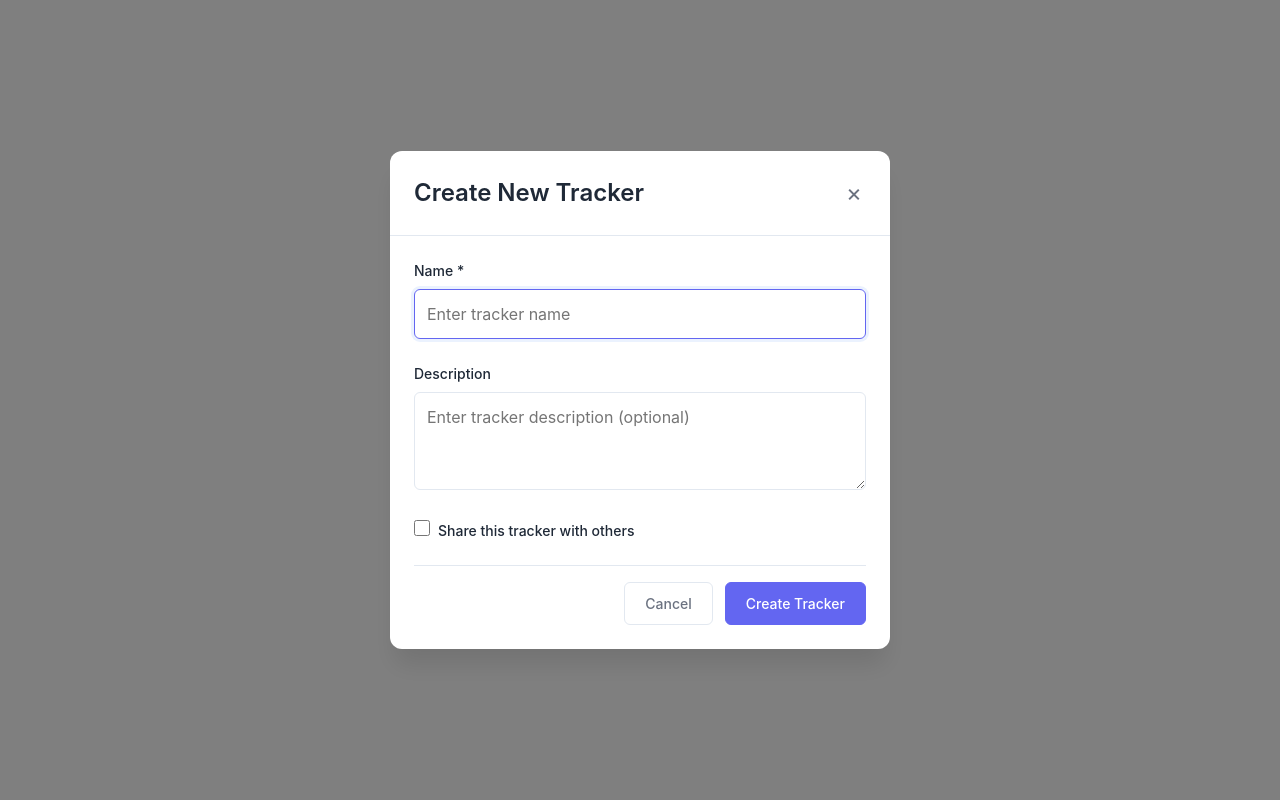
Scenario: CreateTrackerModal Component › validates required fields
Click the button "Create Tracker": (795, 604) [725, 582, 866, 625]
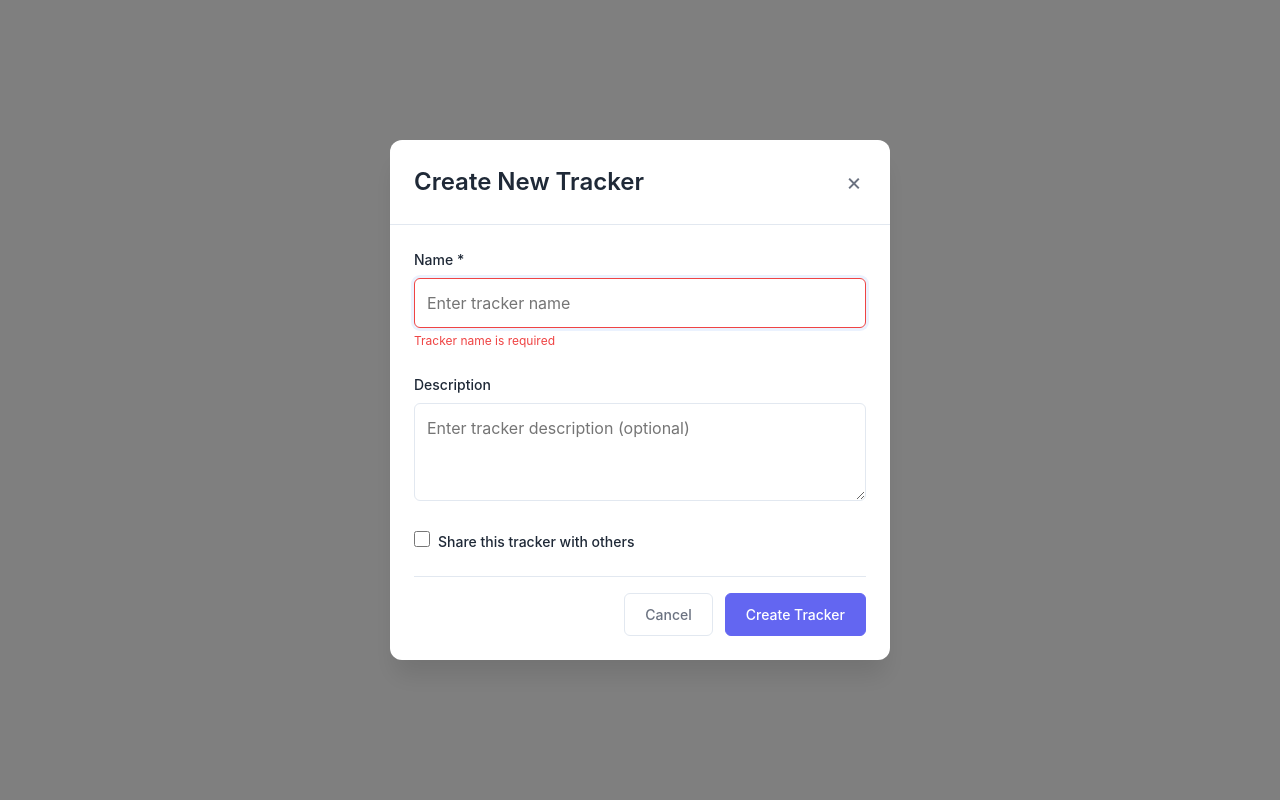
Check: the text "Tracker name is required" is shown, box [414, 333, 555, 348]
